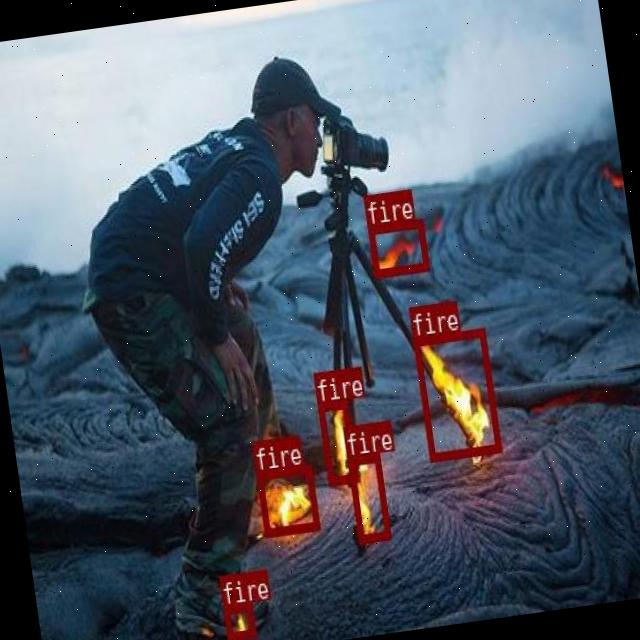fire: (413, 327, 501, 461), (255, 464, 318, 535), (346, 453, 389, 541), (366, 217, 428, 277), (318, 399, 358, 484), (222, 602, 255, 640)
